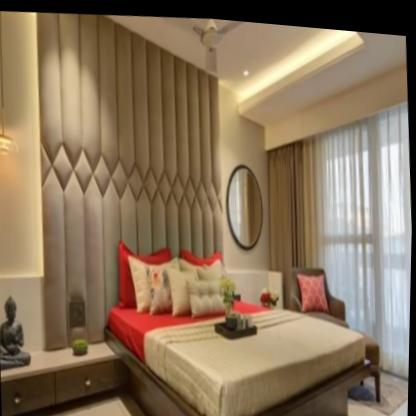Bed: (103, 224, 370, 416)
Lamp: (0, 10, 24, 170)
Nightstand: (0, 331, 119, 416)
